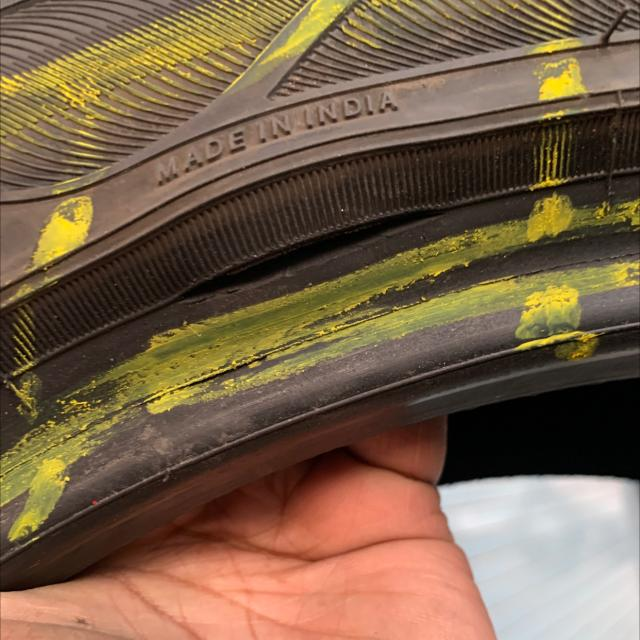Bulge: (140, 97, 393, 249)
